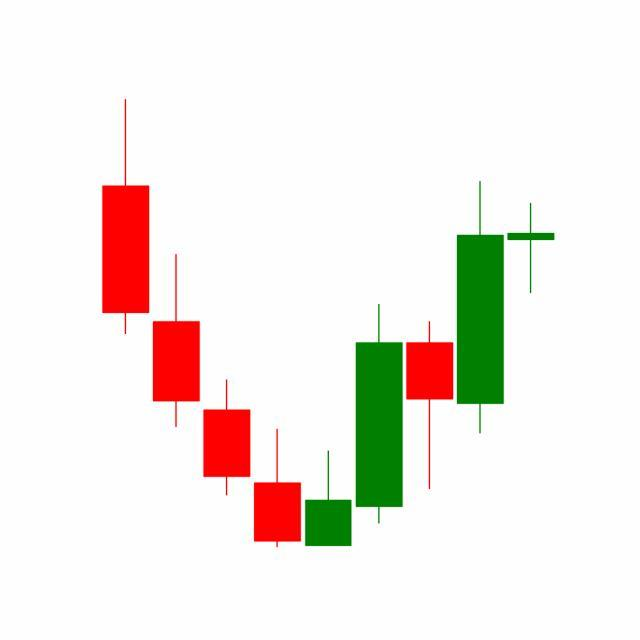Hikkake Pattern: (252, 177, 506, 549)
